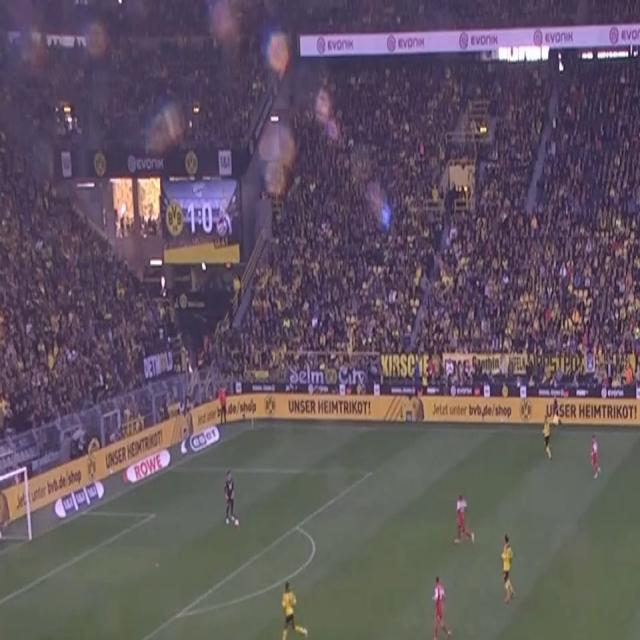ball: (234, 517, 240, 529)
